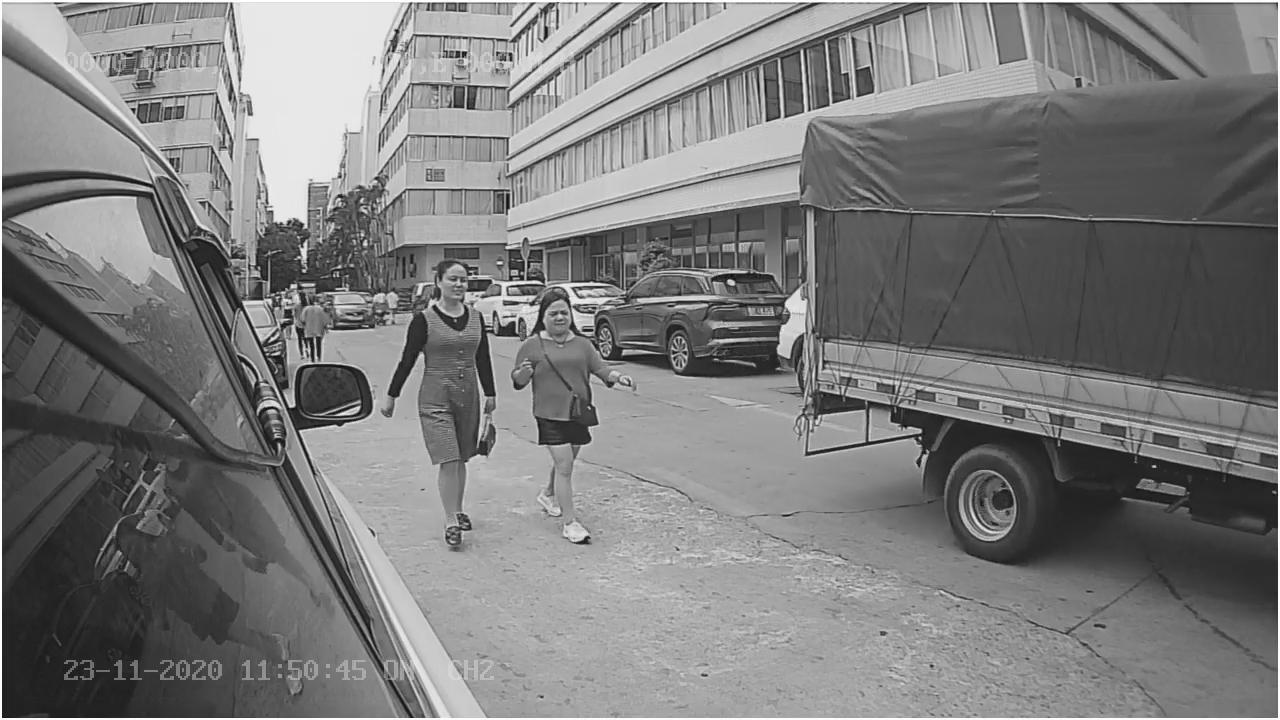person: (509, 275, 638, 543), (385, 259, 497, 548)
